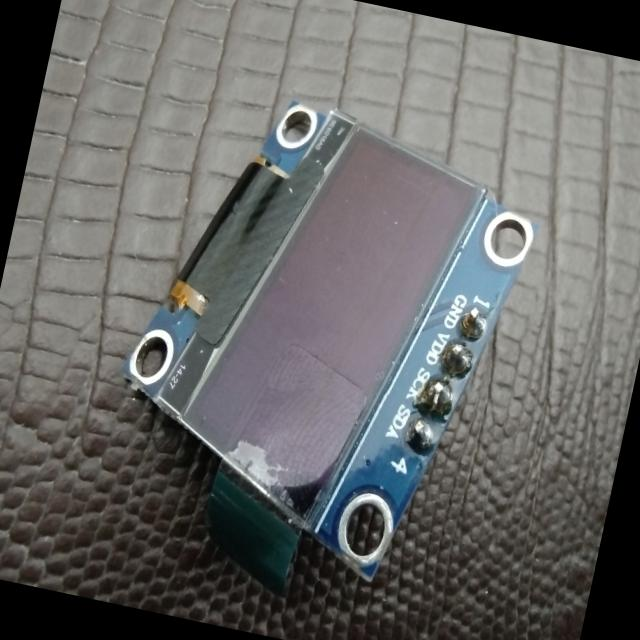oled: (81, 64, 562, 622)
